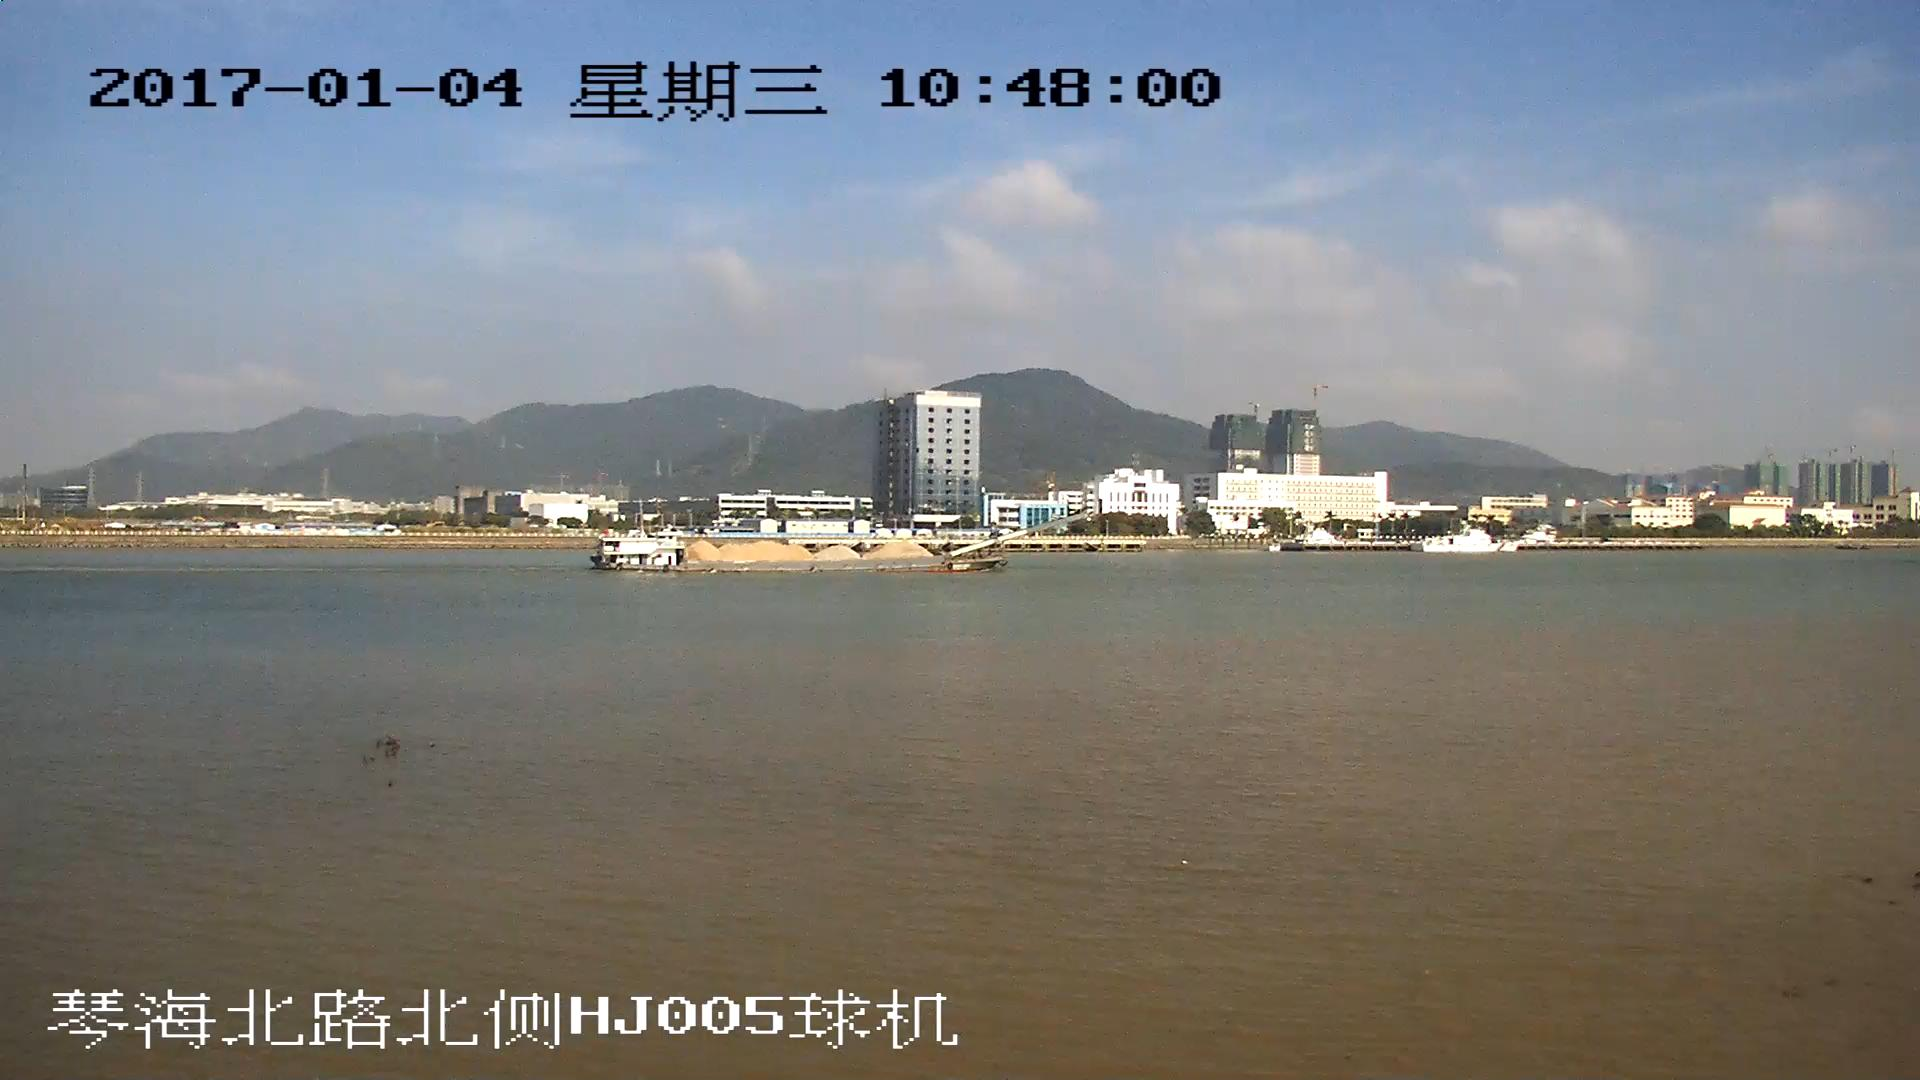ore carrier: (602, 508, 1088, 575)
